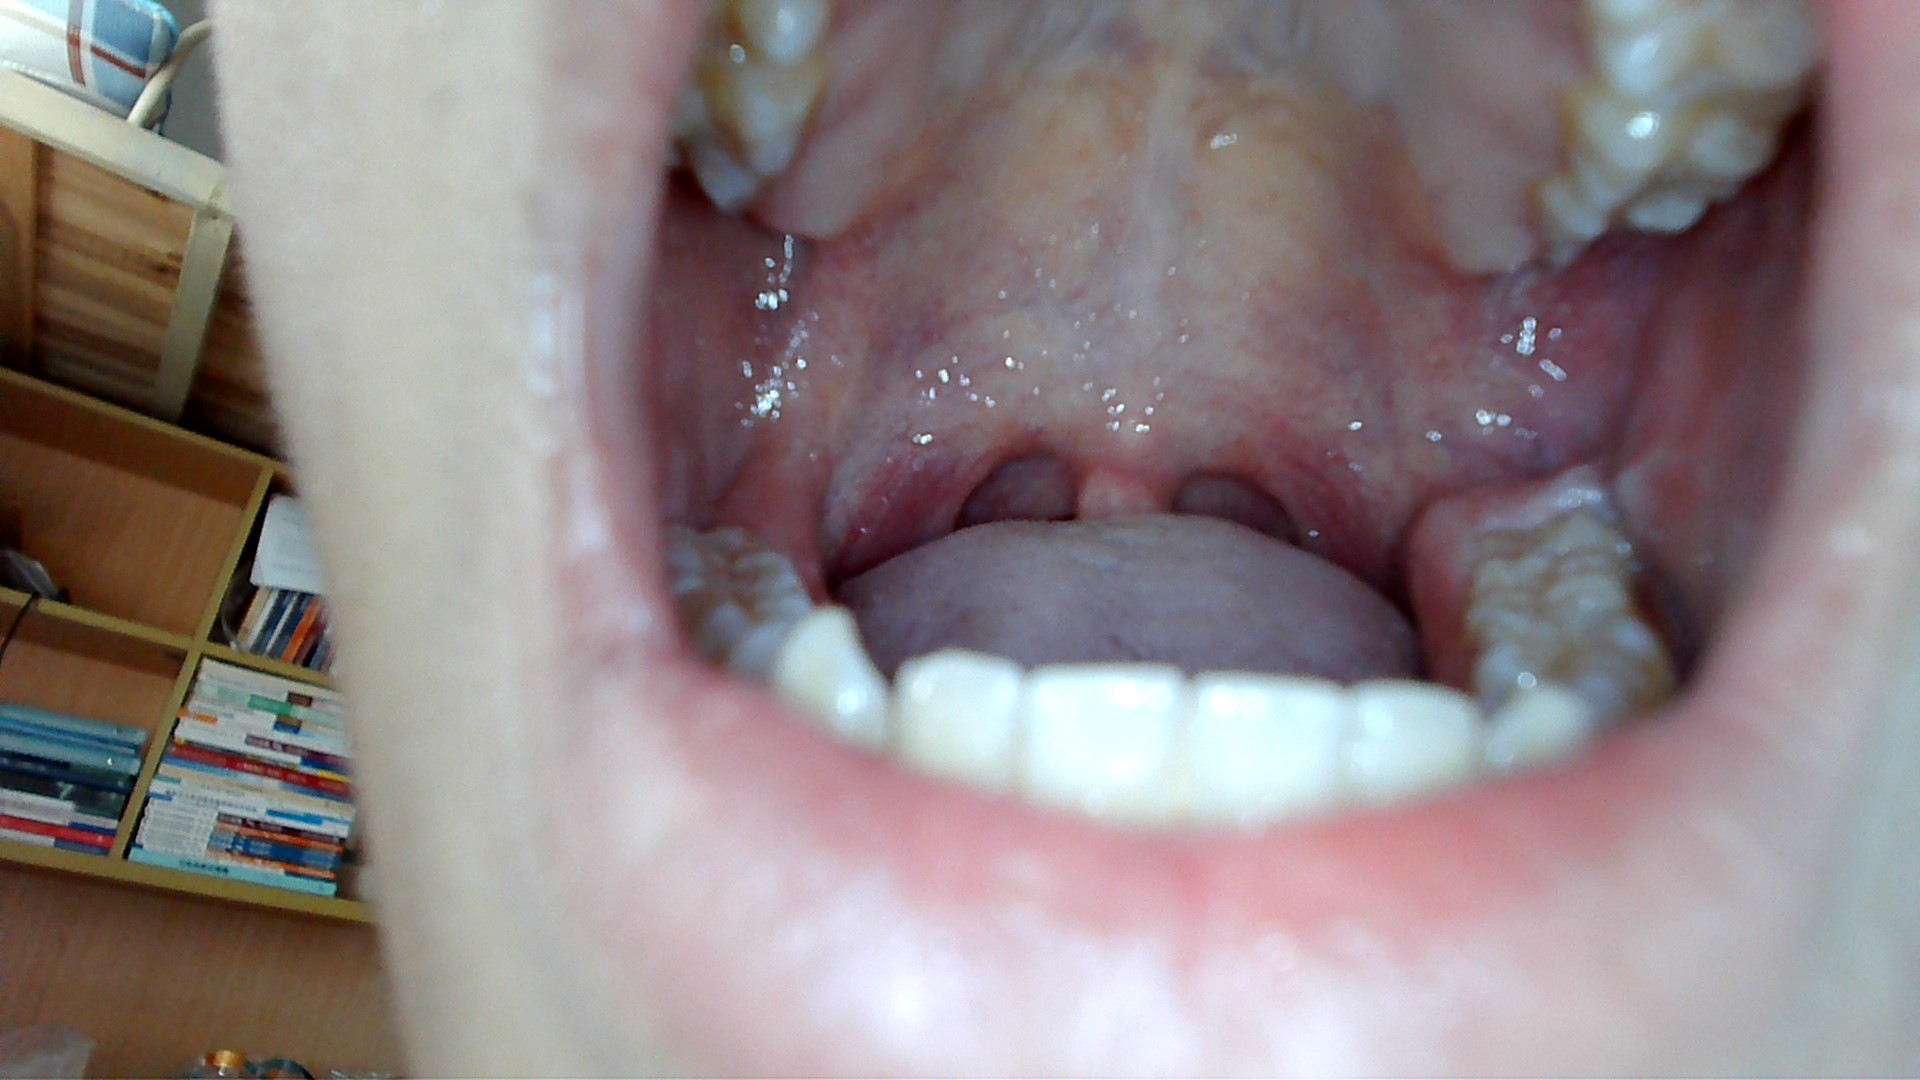throat: (878, 396, 1014, 535), (1254, 419, 1386, 553)
